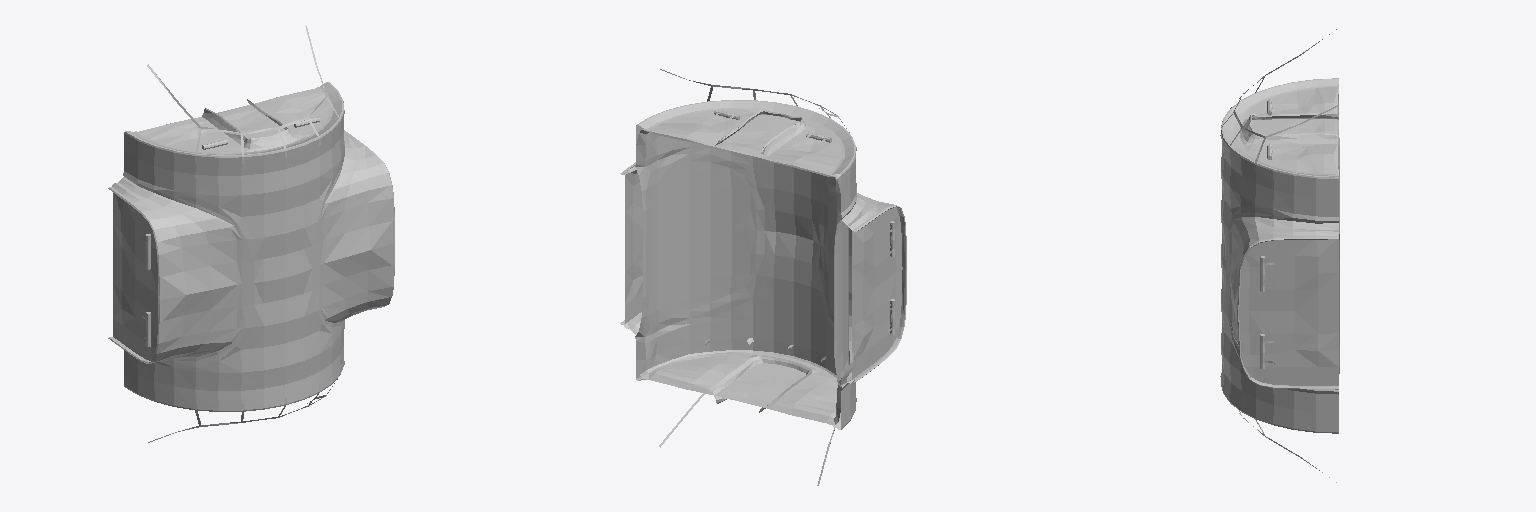
Rendered from Military_Tent.obj.
3 renders of one model, left to right at view 1: azimuth 30°, elevation 25°; view 2: azimuth 150°, elevation 25°; view 3: azimuth 270°, elevation 25°, orthographic.
Visible parts, largest first — view 1: mesh1_dat_desirefx_me_, mesh2_dat_desirefx_me_; view 2: mesh0_dat_desirefx_me_, mesh1_dat_desirefx_me_, mesh2_dat_desirefx_me_; view 3: mesh1_dat_desirefx_me_, mesh2_dat_desirefx_me_.
Boxes of the visible parts, x1,y1,x2,y2 form: mesh1_dat_desirefx_me_: [108, 82, 394, 411]; mesh2_dat_desirefx_me_: [135, 26, 340, 442]; mesh0_dat_desirefx_me_: [625, 130, 853, 424]; mesh1_dat_desirefx_me_: [620, 100, 906, 429]; mesh2_dat_desirefx_me_: [659, 69, 894, 485]; mesh1_dat_desirefx_me_: [1221, 78, 1338, 433]; mesh2_dat_desirefx_me_: [1220, 29, 1337, 482].
Size of the model in its own units: 5.97 by 9.12 by 2.6.